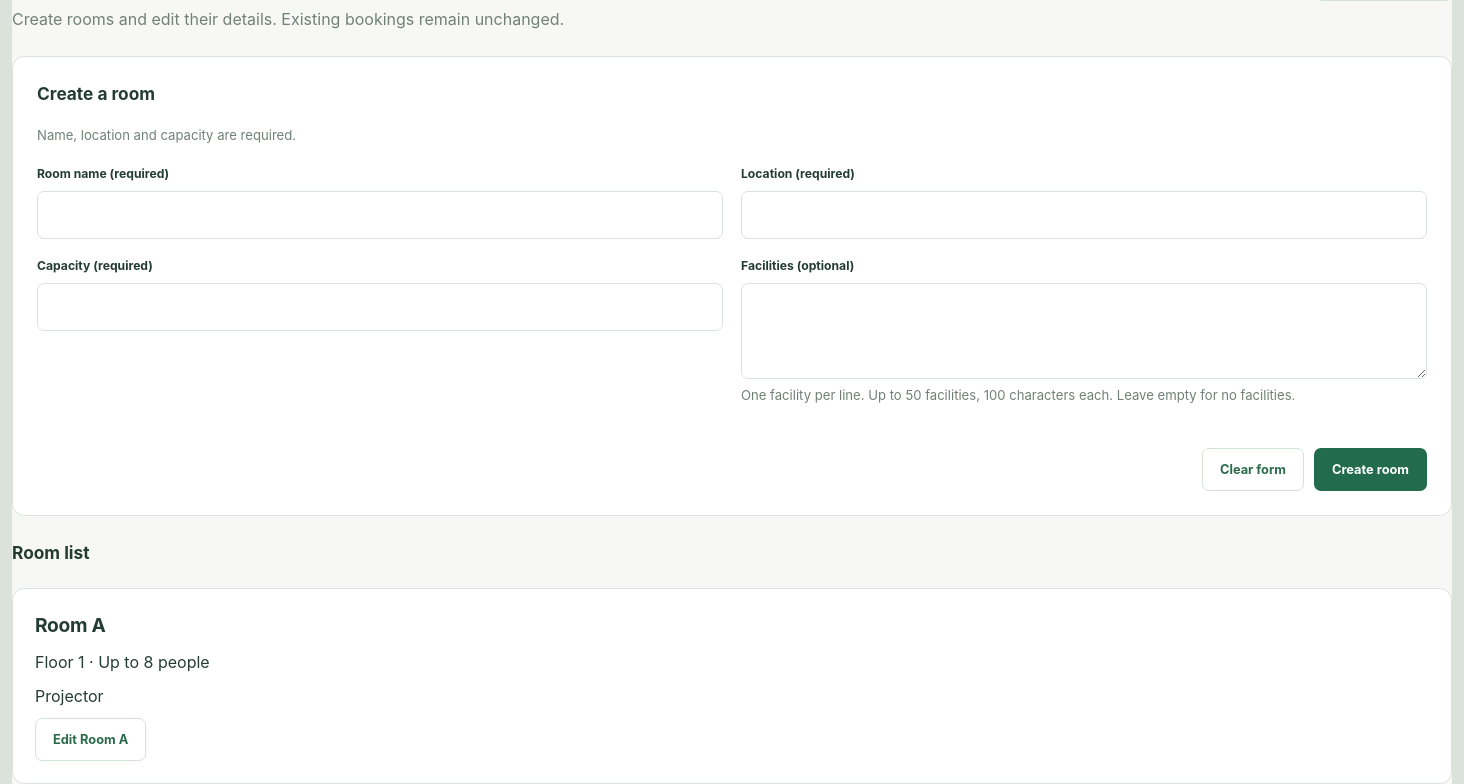
Test: TC13 / TC14 admin room UI › cancels editing without a request
(page scrolled)
Click the button "Edit Room A".
click(91, 739)  # box [35,718,146,761]
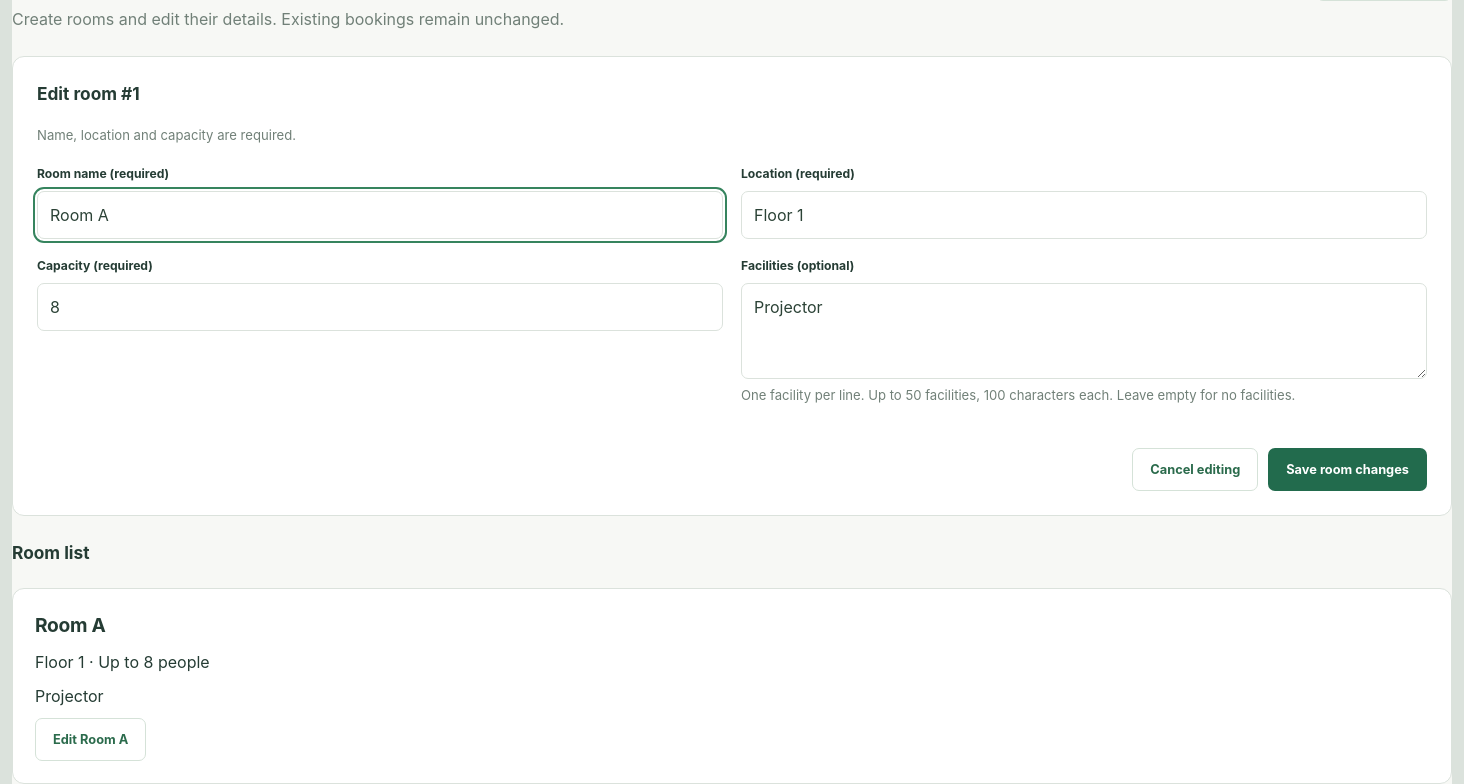
Click the button "Cancel editing".
click(1195, 469)  # box [1132,448,1258,491]
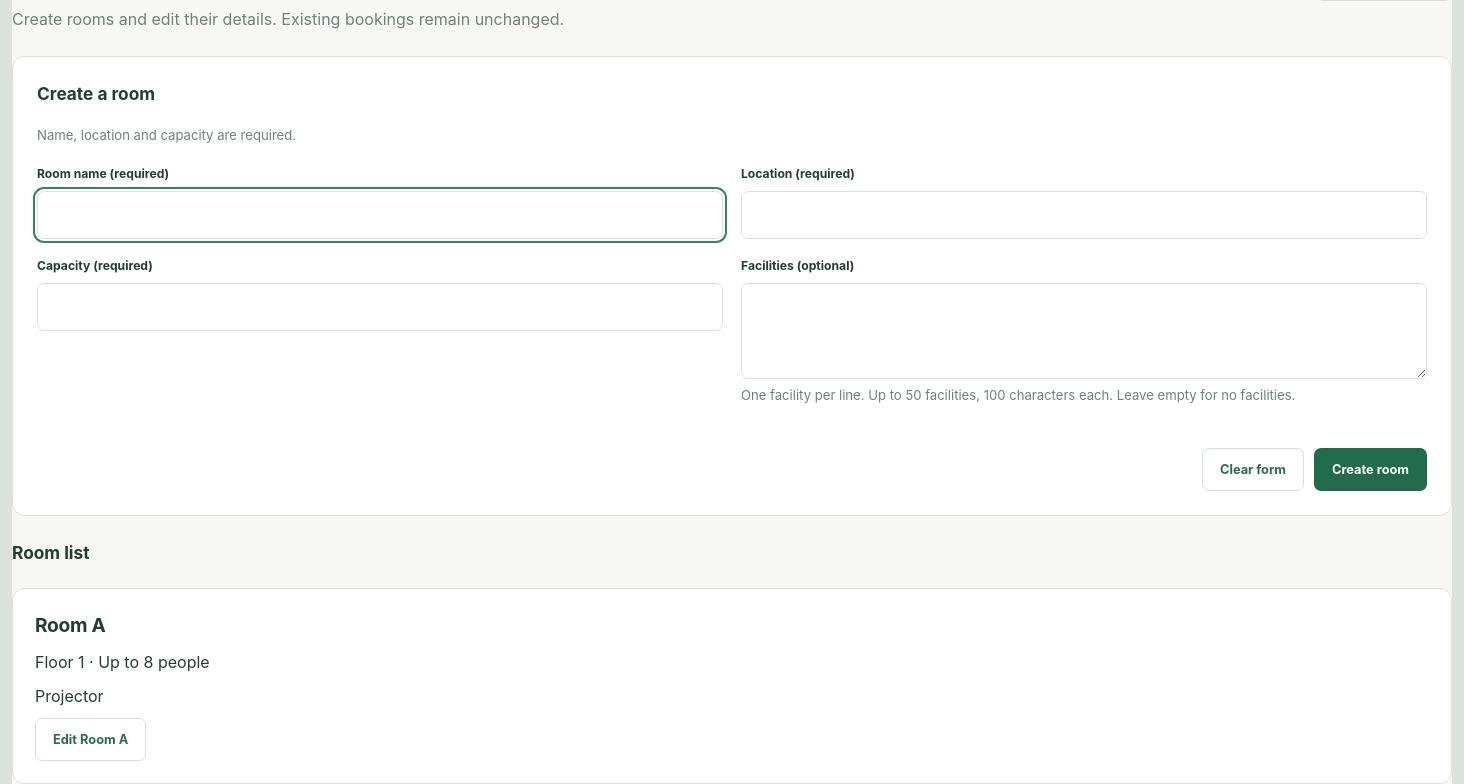
Check: the heading "Create a room" is shown, box [37,83,155,104]
